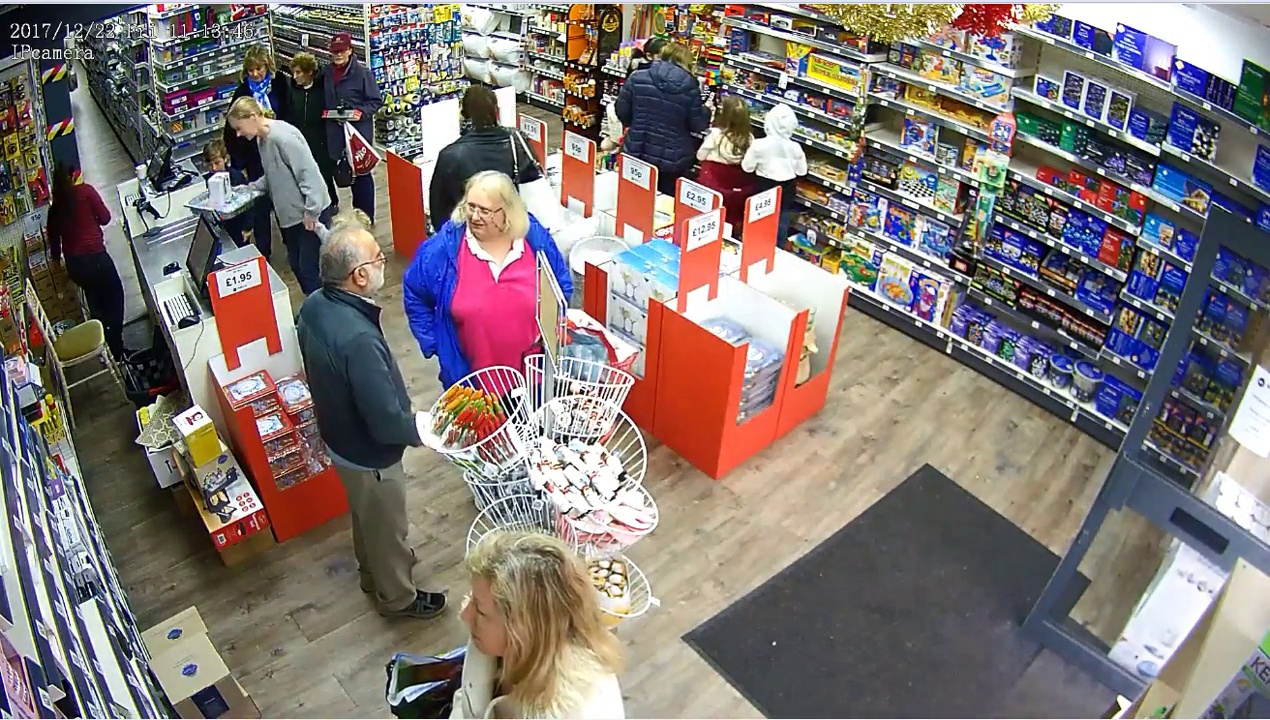face: (455, 580, 511, 674), (457, 194, 503, 237), (243, 55, 267, 86), (284, 58, 309, 86)
